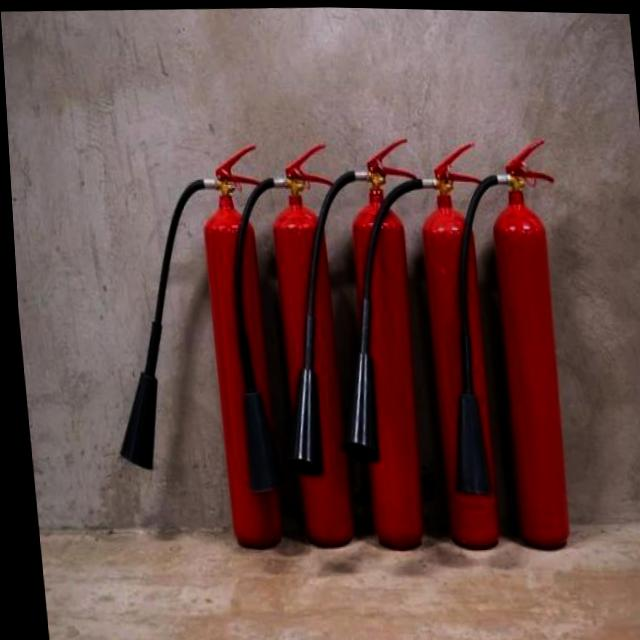FireExtinguisher: (85, 131, 293, 554), (250, 124, 450, 556), (307, 132, 509, 554), (416, 127, 585, 556), (211, 136, 364, 550)
